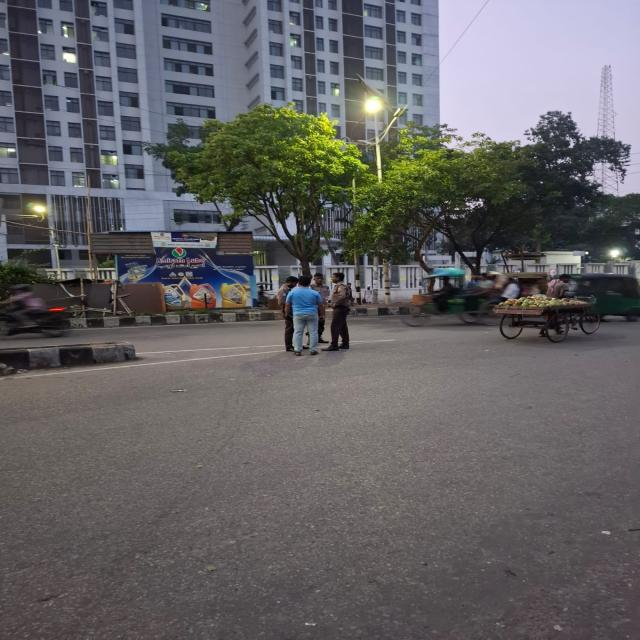person: (286, 276, 324, 356), (323, 272, 351, 352), (306, 273, 330, 348), (277, 276, 298, 352)
